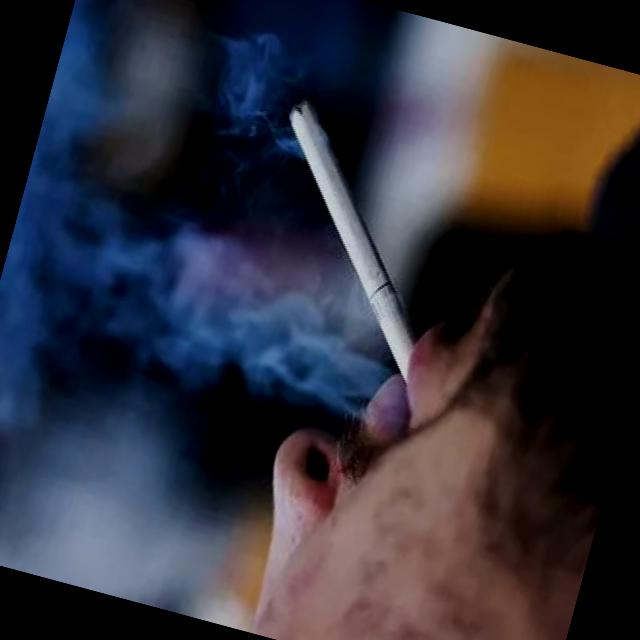smoke: (222, 84, 488, 394)
